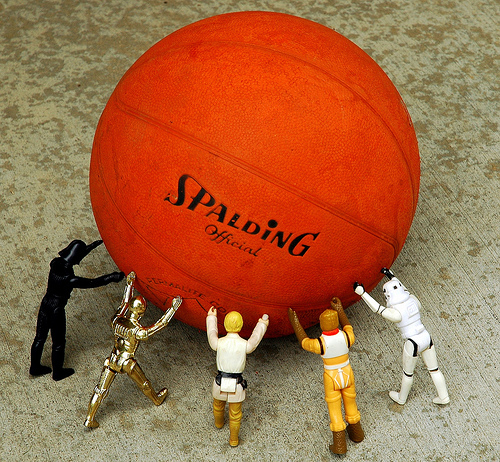basketball: (89, 13, 421, 338)
